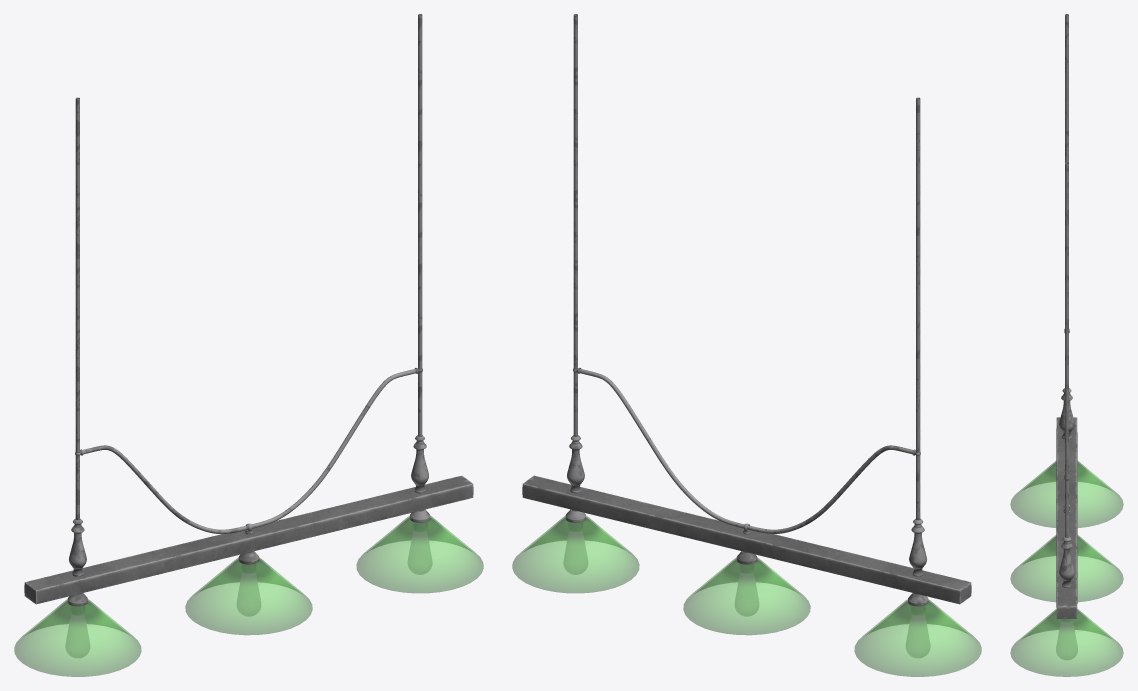
File: lamp.glb
The picture shows the model from 3 angles, left to right: view 1: azimuth 30°, elevation 25°; view 2: azimuth 150°, elevation 25°; view 3: azimuth 270°, elevation 25°; orthographic projection. The views are drawn at different scales.
Visible parts, largest first — view 1: lamp, bulb0, bulb1, bulb2; view 2: lamp, bulb0, bulb1, bulb2; view 3: lamp, bulb2.
Part boxes in pixels (bbox=[...]): lamp: bbox=[14, 14, 483, 676]; bulb0: bbox=[66, 615, 89, 657]; bulb1: bbox=[237, 573, 260, 615]; bulb2: bbox=[408, 531, 431, 574]; lamp: bbox=[512, 14, 981, 676]; bulb0: bbox=[906, 615, 929, 657]; bulb1: bbox=[735, 573, 758, 615]; bulb2: bbox=[564, 531, 587, 574]; lamp: bbox=[1010, 14, 1123, 676]; bulb2: bbox=[1056, 622, 1077, 659].
Bounding box in the file's own units: 1.26 × 1.48 × 0.3067.
Materials: 2 (2 with a texture image).
